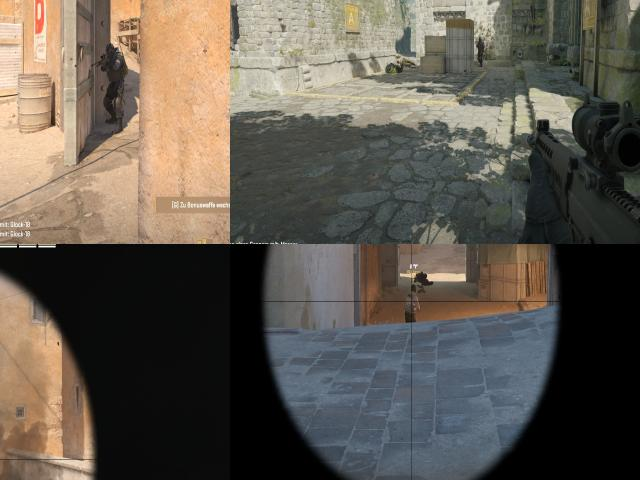CT: (103, 41, 125, 122), (473, 34, 488, 69)
CT-Head: (106, 42, 116, 56), (478, 36, 484, 47)
Dead: (380, 63, 404, 80), (397, 56, 417, 71), (414, 270, 433, 282)
T: (404, 283, 420, 322)
T-Head: (411, 284, 417, 292)
